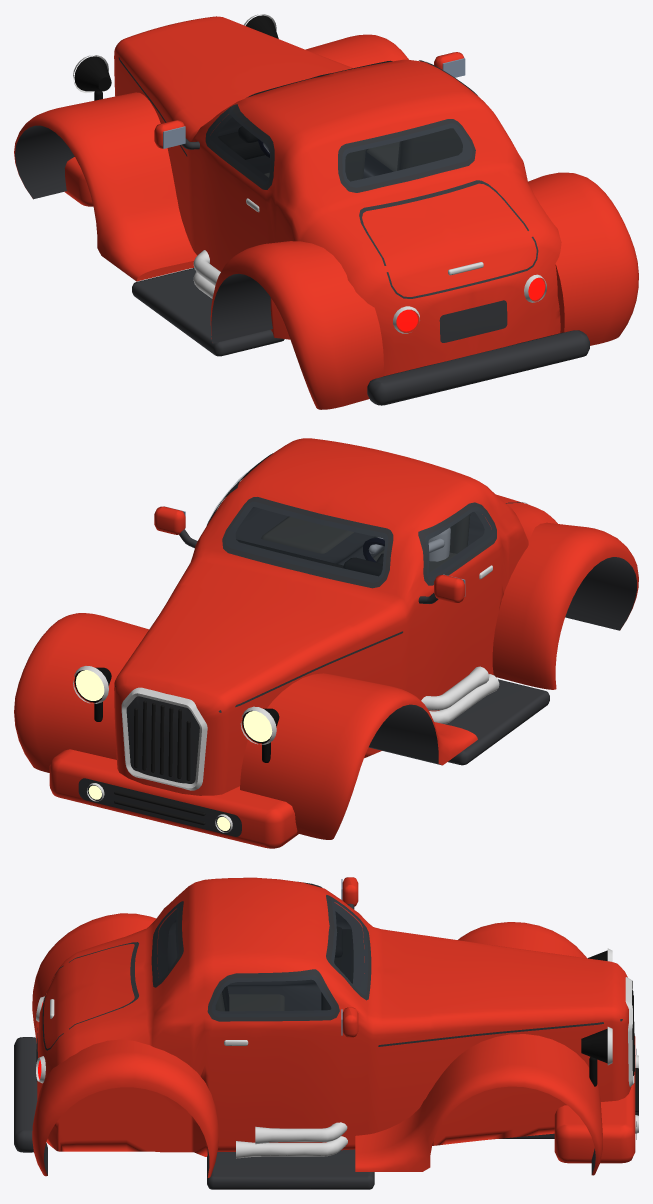
File: car_hotrod.glb
3 views of the same model, one above another, from view 1: azimuth 30°, elevation 25°; view 2: azimuth 150°, elevation 25°; view 3: azimuth 270°, elevation 25° (orthographic). The views are drawn at different scales.
Parts seen in each view (by area): view 1: body_q, detail_q; view 2: body_q, detail_q; view 3: body_q, detail_q.
Boxes of the visible parts, box(x1,y1,x2,y2) form: body_q: box(14, 16, 638, 409); detail_q: box(73, 14, 546, 333); body_q: box(14, 438, 638, 848); detail_q: box(73, 506, 499, 832); body_q: box(14, 877, 636, 1189); detail_q: box(36, 879, 638, 1158).
Bounding box in the file's own units: 2.36 × 1.41 × 3.88.
